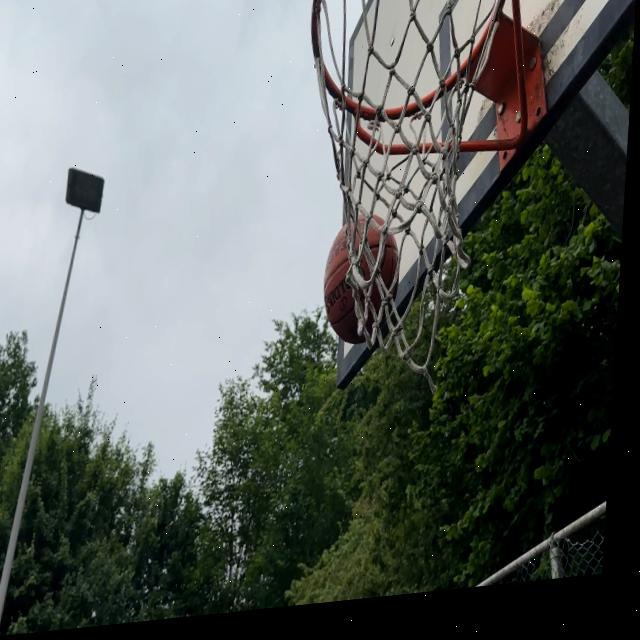Basketball: (321, 208, 404, 349)
